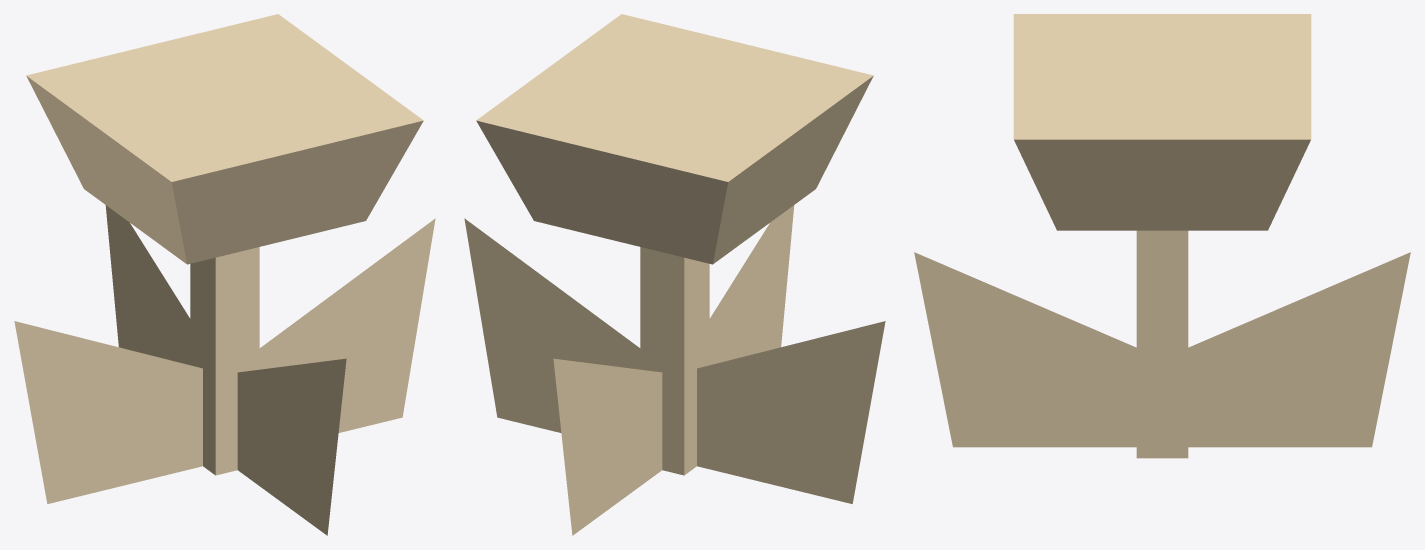
Rendered from naturePack_flat_006.fbx.
3 renders of one model, left to right at view 1: azimuth 30°, elevation 25°; view 2: azimuth 150°, elevation 25°; view 3: azimuth 270°, elevation 25°, orthographic. The views are drawn at different scales.
Parts seen in each view (by area): view 1: naturePack_flat_006; view 2: naturePack_flat_006; view 3: naturePack_flat_006.
Part boxes in pixels (box(x1,y1,x2,y2)): naturePack_flat_006: box(14, 14, 435, 535); naturePack_flat_006: box(464, 14, 885, 535); naturePack_flat_006: box(914, 14, 1410, 458).
Size of the model in its own units: 48.59 by 40 by 48.59.
